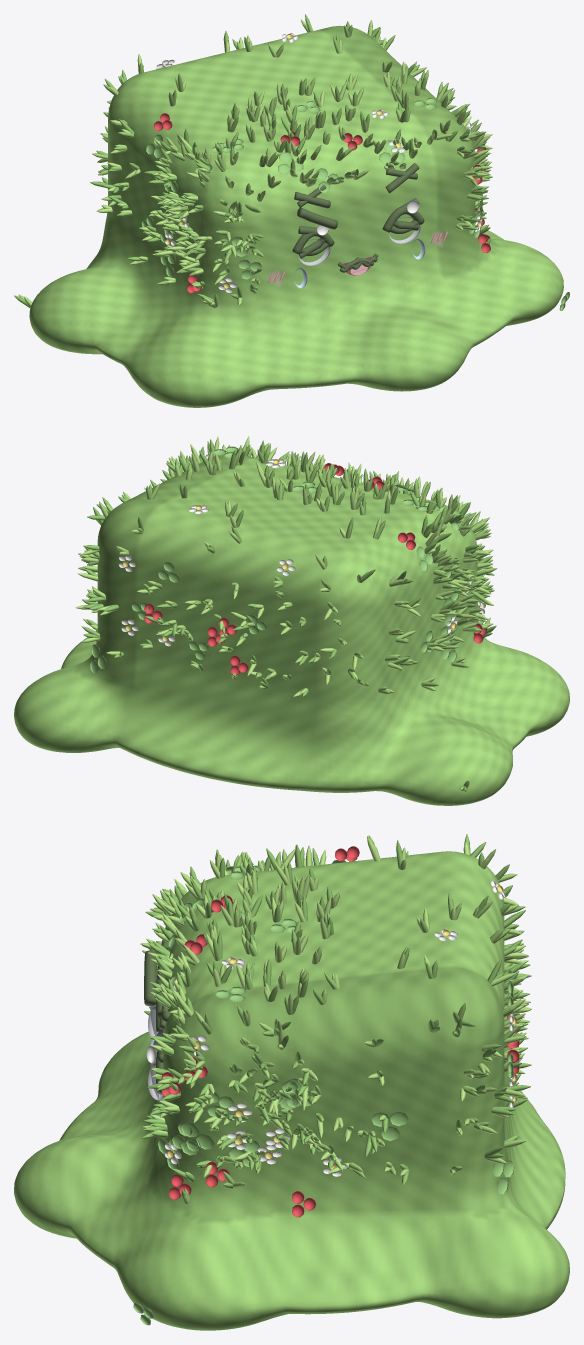
File: n_grass_slime.glb
3 views of the same model, one above another, from view 1: azimuth 30°, elevation 25°; view 2: azimuth 150°, elevation 25°; view 3: azimuth 270°, elevation 25° (orthographic). The views are drawn at different scales.
Parts seen in each view (by area): view 1: BodyMesh, face_eyes_happy, face_eyes_normal, face_brows_angry, face_eyes_strain; view 2: BodyMesh; view 3: BodyMesh, face_eyes_normal, face_brow_smug.
Part boxes in pixels (left/top/right/bottom): BodyMesh: left=14, top=14, right=569, bottom=407; face_eyes_happy: left=292, top=207, right=424, bottom=254; face_eyes_normal: left=298, top=200, right=420, bottom=265; face_brows_angry: left=294, top=163, right=419, bottom=208; face_eyes_strain: left=298, top=198, right=419, bottom=258; BodyMesh: left=14, top=436, right=569, bottom=805; BodyMesh: left=14, top=834, right=569, bottom=1330; face_eyes_normal: left=146, top=979, right=163, bottom=1100; face_brow_smug: left=144, top=950, right=156, bottom=1006.
Bounding box in the file's own units: 2.58 × 1.33 × 2.15.
